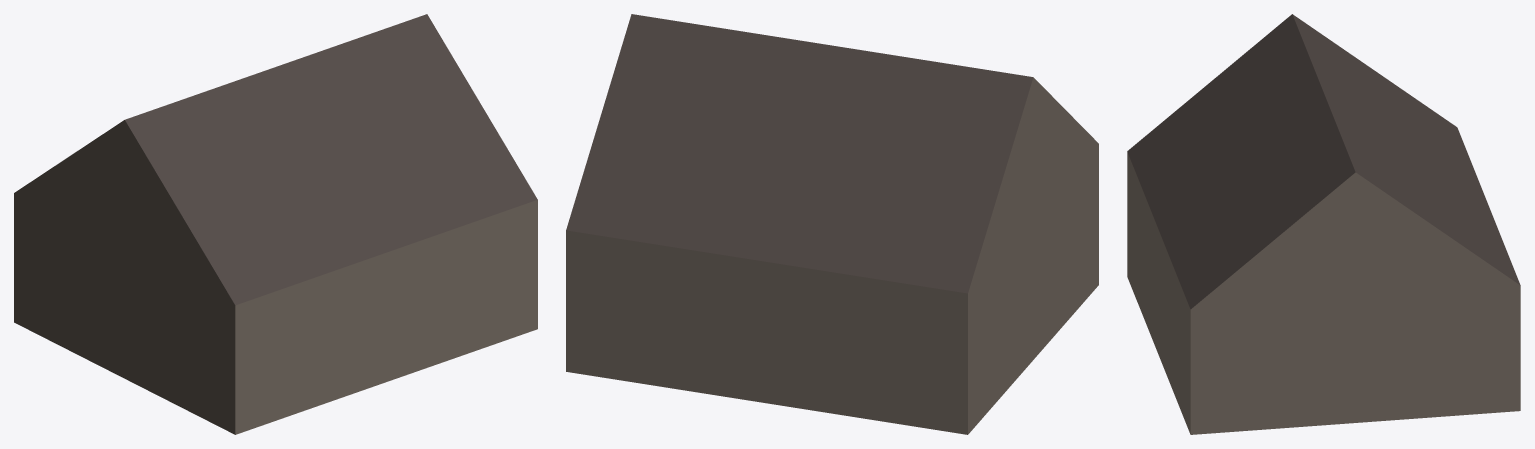
3 views of the same model, side by side, from view 1: azimuth 30°, elevation 25°; view 2: azimuth 150°, elevation 25°; view 3: azimuth 270°, elevation 25° (orthographic). The views are drawn at different scales.
Parts seen in each view (by area): view 1: HP-w428179922; view 2: HP-w428179922; view 3: HP-w428179922.
Boxes of the visible parts, x1,y1,x2,y2 form: HP-w428179922: (14,14,537,434); HP-w428179922: (566,14,1098,434); HP-w428179922: (1127,14,1520,434).
Size of the model in its own units: 9.36 by 6 by 8.54.
